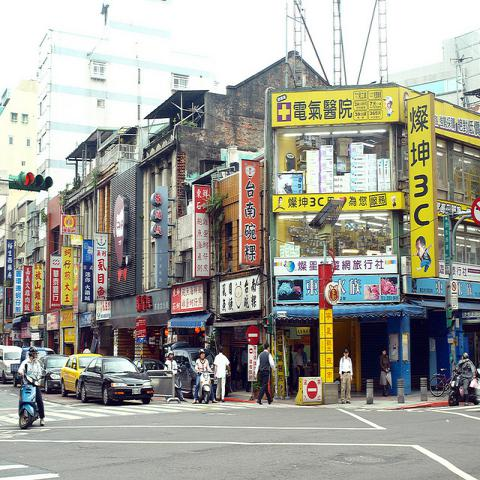car: (162, 342, 230, 398), (77, 356, 154, 404), (60, 353, 103, 400), (40, 354, 71, 394), (0, 346, 23, 384), (133, 358, 167, 372)
motorcycle: (13, 375, 41, 430), (450, 372, 479, 404), (164, 364, 182, 400), (198, 370, 212, 404)
